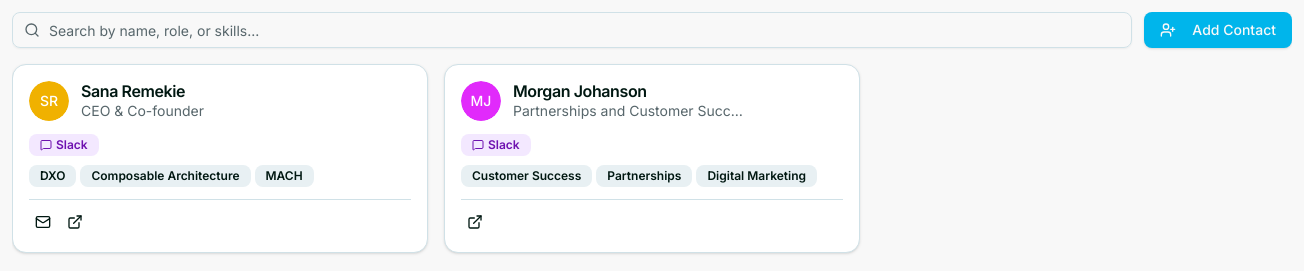
Test: Contacts Page › filters contacts by skills
The width and height of the screenshot is (1304, 271).
Type "Digital Marketing" into the field with placeholder "Search by name, role, or skills...". click: (572, 30)
box: 12,12 -> 1132,48
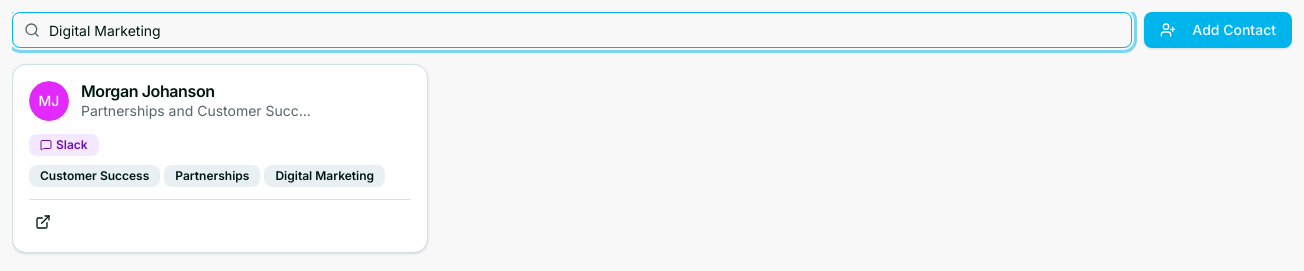
Expected: the heading "Morgan Johanson" is shown, 81,81 -> 215,101
Now the heading "Sana Remekie" is gone
